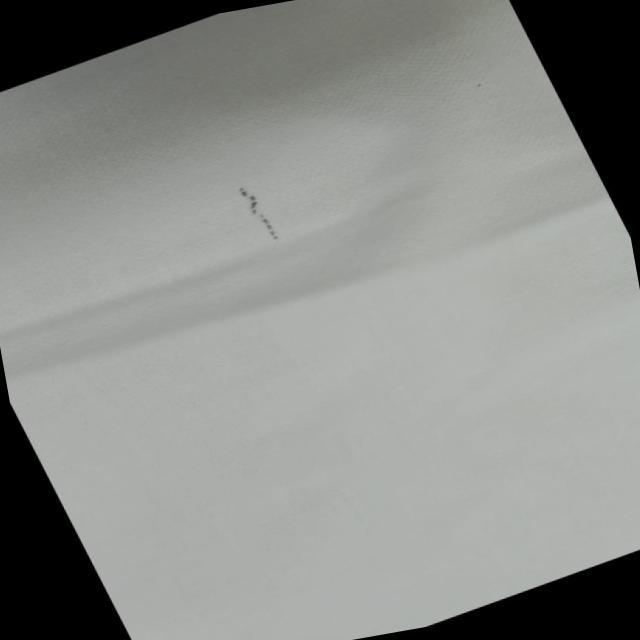contamination: (223, 168, 300, 258)
